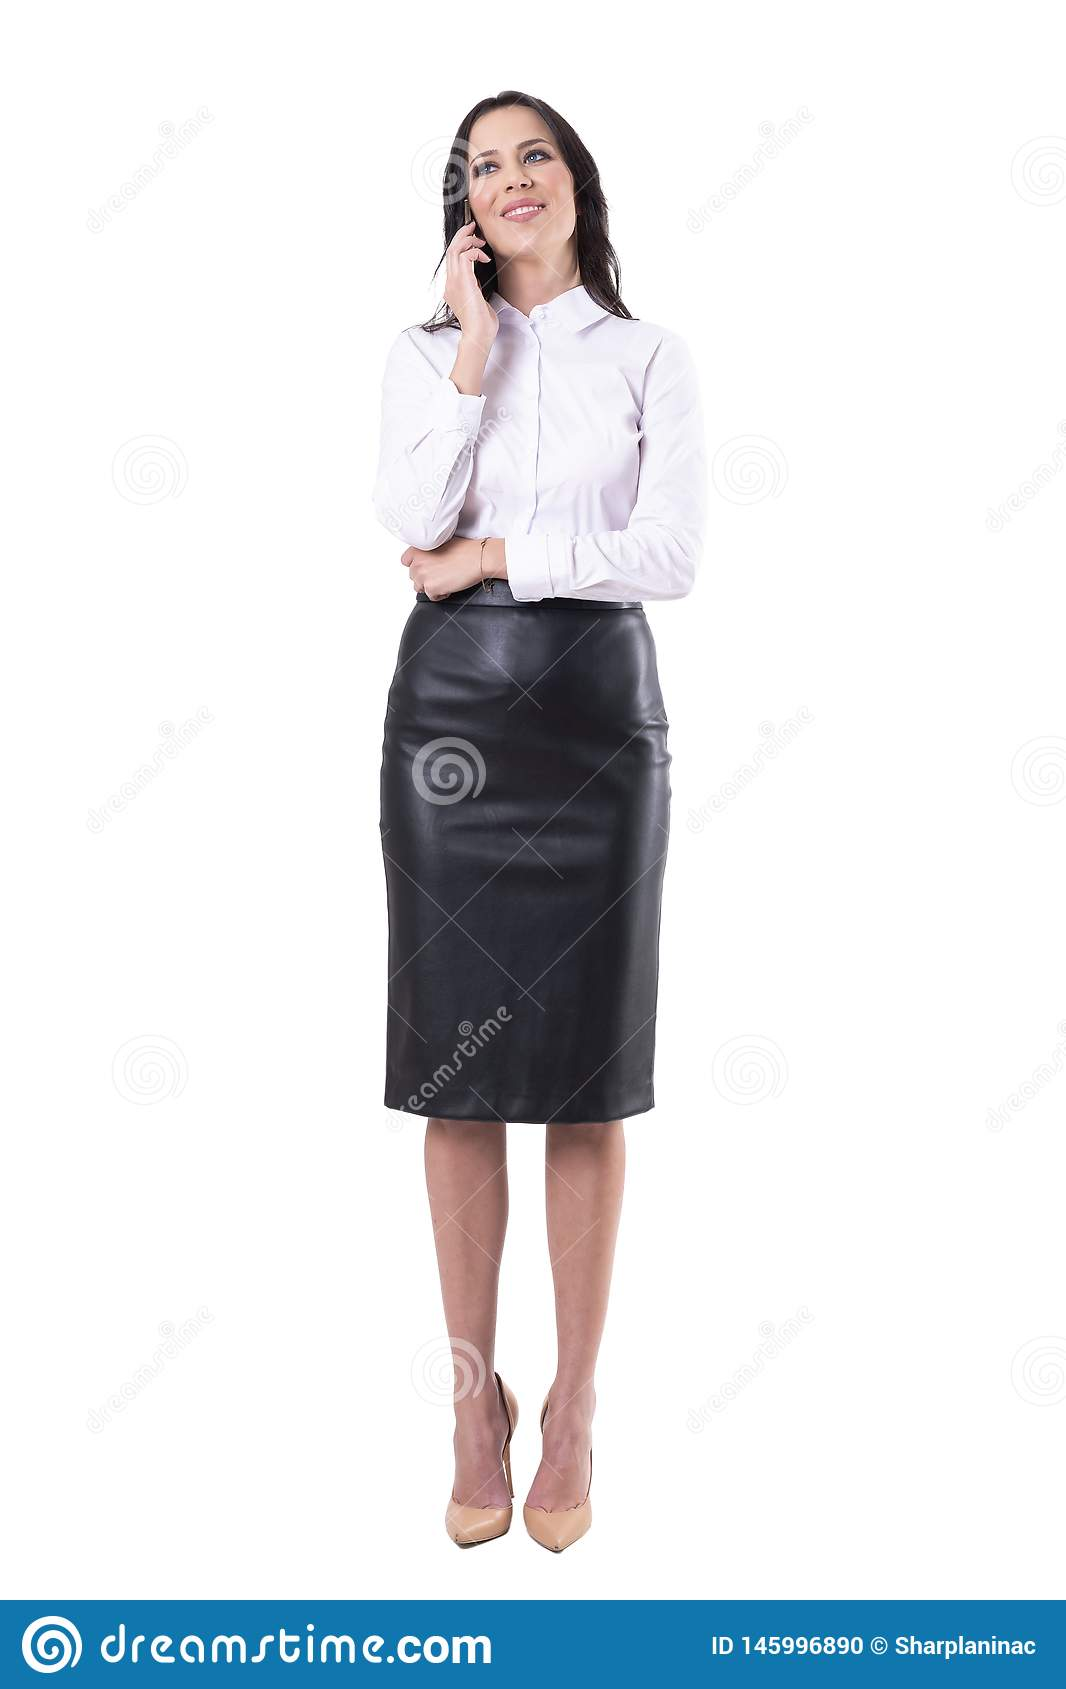phone: (459, 195, 480, 277)
talk: (445, 128, 565, 352)
